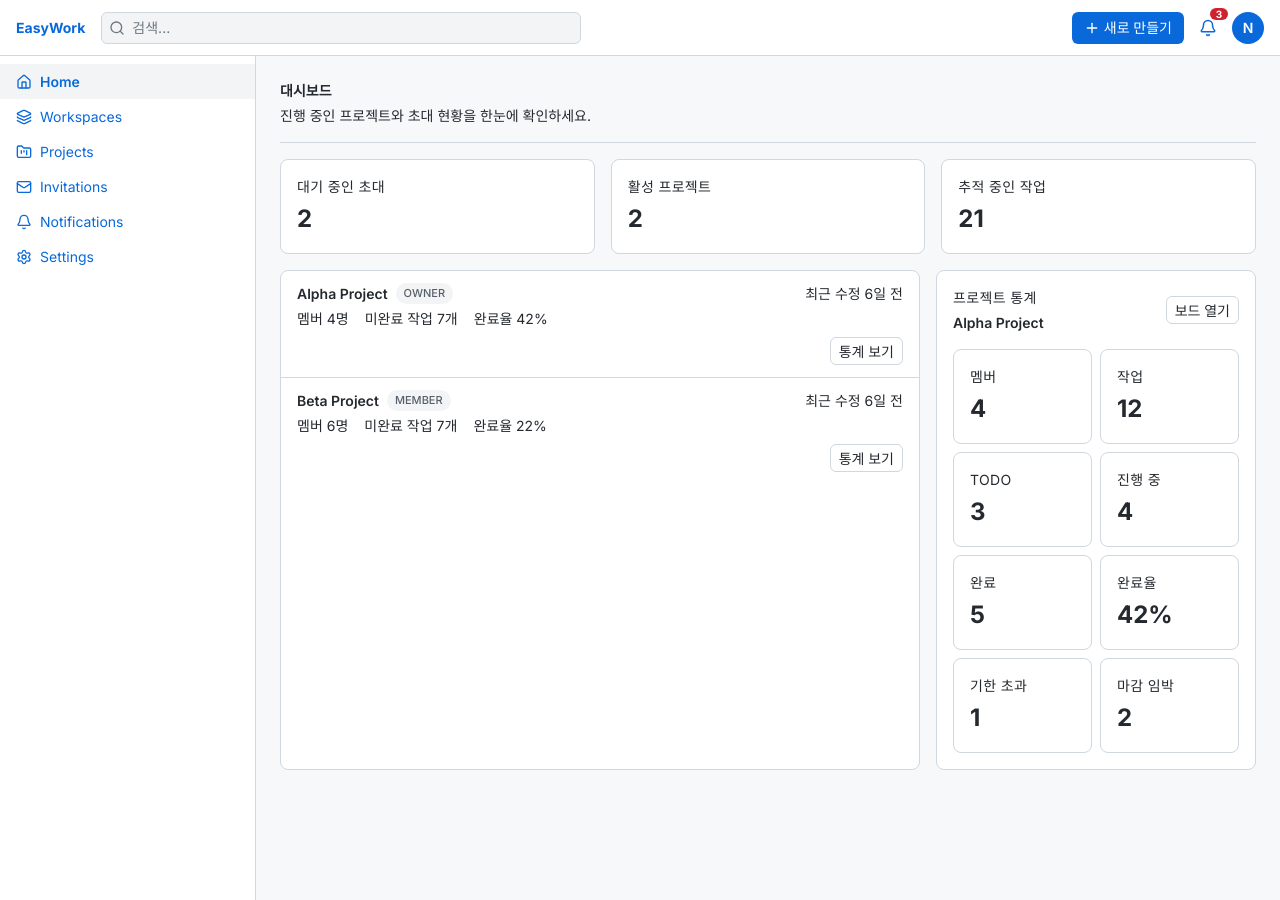
Test case: Dashboard route › renders dashboard projects summary and selected project stats on /dashboard
The width and height of the screenshot is (1280, 900).
Check: the heading "대시보드" is shown, box left=280, top=82, right=332, bottom=99
Check: the 1st text "Alpha Project" is shown, box left=297, top=283, right=388, bottom=304
Click the 2nd button "통계 보기" at (866,458), box left=830, top=444, right=903, bottom=472
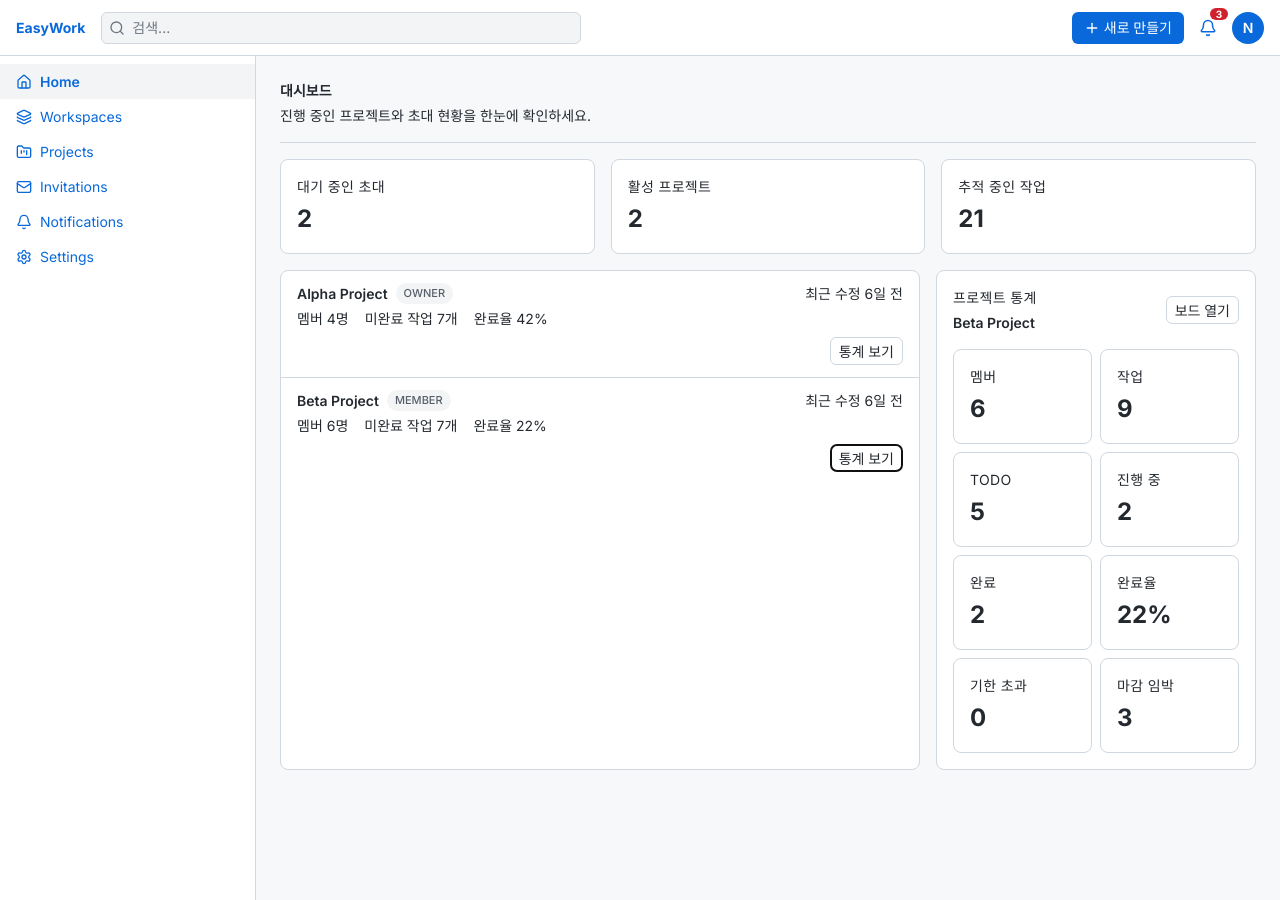
Check: the text "Beta Project" below "42" is shown, box left=297, top=392, right=379, bottom=409
Check: the text "22%" is shown, box left=1117, top=600, right=1172, bottom=629
